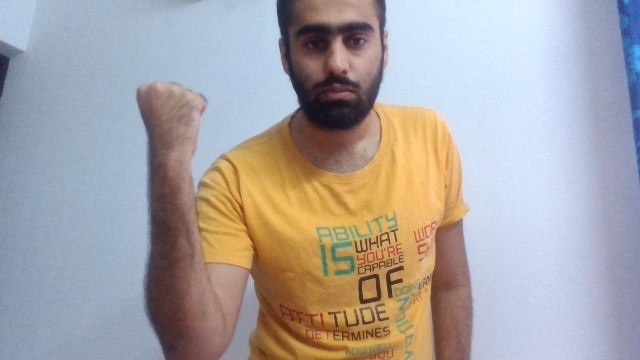rock: (134, 79, 208, 167)
